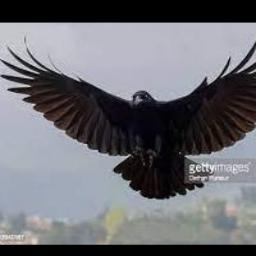Crow: (0, 35, 256, 199)
